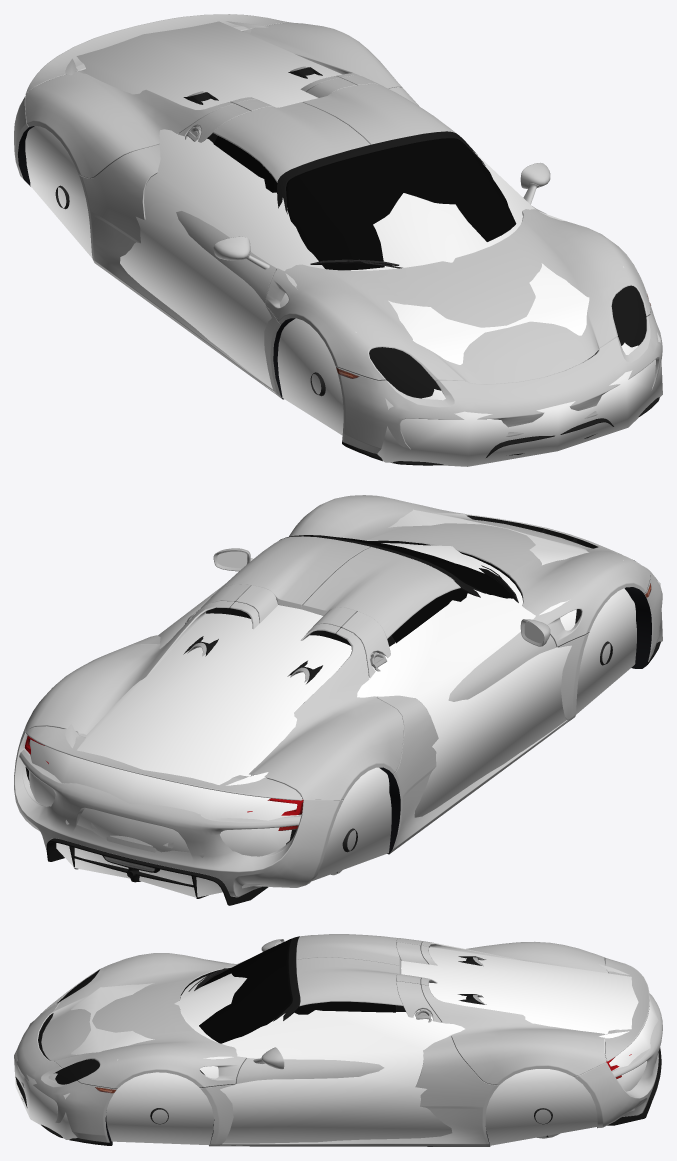
Rendered from RMCar01.FBX.
3 views of the same model, one above another, from view 1: azimuth 30°, elevation 25°; view 2: azimuth 150°, elevation 25°; view 3: azimuth 270°, elevation 25° (orthographic). The views are drawn at different scales.
Parts seen in each view (by area): view 1: RMCar01_Paint_LOD0, RMCar01_Body_Col, RMCar01_Windows_LOD0, RMCar01_PaintRoof_LOD0, RMCar01_Body_LOD0, RMCar01_PaintSpoiler_LOD0, RMCar01_WindowsDoor_LOD0; view 2: RMCar01_Body_Col, RMCar01_Paint_LOD0, RMCar01_PaintRoof_LOD0, RMCar01_Body_LOD0, RMCar01_PaintSpoiler_LOD0, RMCar01_Windows_LOD0, RMCar01_WindowsDoor_LOD0; view 3: RMCar01_Body_Col, RMCar01_Paint_LOD0, RMCar01_PaintRoof_LOD0, RMCar01_Windows_LOD0, RMCar01_Body_LOD0, RMCar01_PaintSpoiler_LOD0, RMCar01_WindowsDoor_LOD0.
Part boxes in pixels (x1,y1,x2,y2): RMCar01_Paint_LOD0: [14, 23, 662, 453]; RMCar01_Body_Col: [25, 21, 662, 466]; RMCar01_Windows_LOD0: [286, 138, 646, 398]; RMCar01_PaintRoof_LOD0: [212, 83, 455, 182]; RMCar01_Body_LOD0: [18, 66, 659, 465]; RMCar01_PaintSpoiler_LOD0: [25, 14, 293, 94]; RMCar01_WindowsDoor_LOD0: [213, 136, 277, 192]; RMCar01_Body_Col: [28, 495, 662, 897]; RMCar01_Paint_LOD0: [14, 495, 662, 897]; RMCar01_PaintRoof_LOD0: [213, 536, 460, 638]; RMCar01_Body_LOD0: [25, 515, 660, 905]; RMCar01_PaintSpoiler_LOD0: [25, 726, 302, 800]; RMCar01_Windows_LOD0: [299, 535, 635, 598]; RMCar01_WindowsDoor_LOD0: [391, 588, 467, 643]; RMCar01_Body_Col: [14, 947, 658, 1145]; RMCar01_Paint_LOD0: [16, 938, 662, 1146]; RMCar01_PaintRoof_LOD0: [296, 934, 402, 1006]; RMCar01_Windows_LOD0: [55, 938, 292, 1084]; RMCar01_Body_LOD0: [15, 936, 661, 1146]; RMCar01_PaintSpoiler_LOD0: [605, 958, 649, 1061]; RMCar01_WindowsDoor_LOD0: [294, 1001, 395, 1014].
Size of what is drawn, in the model's own units: 205 by 463 by 107.
